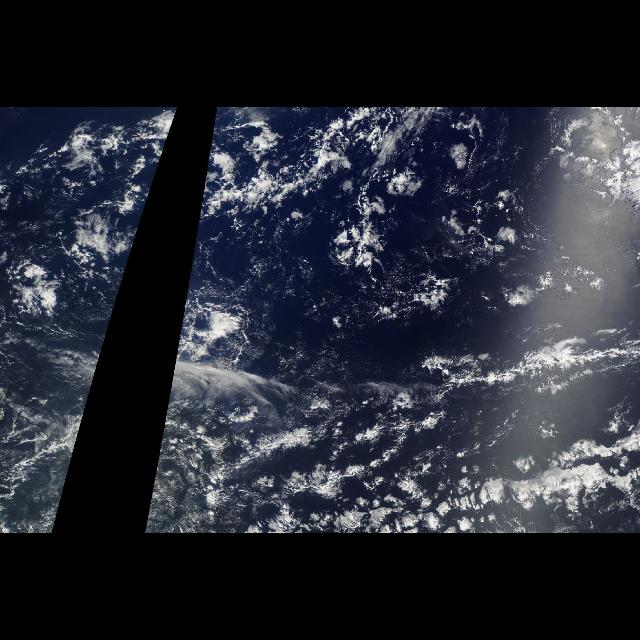Flower: (254, 110, 632, 340)
Gravel: (204, 115, 606, 328)
